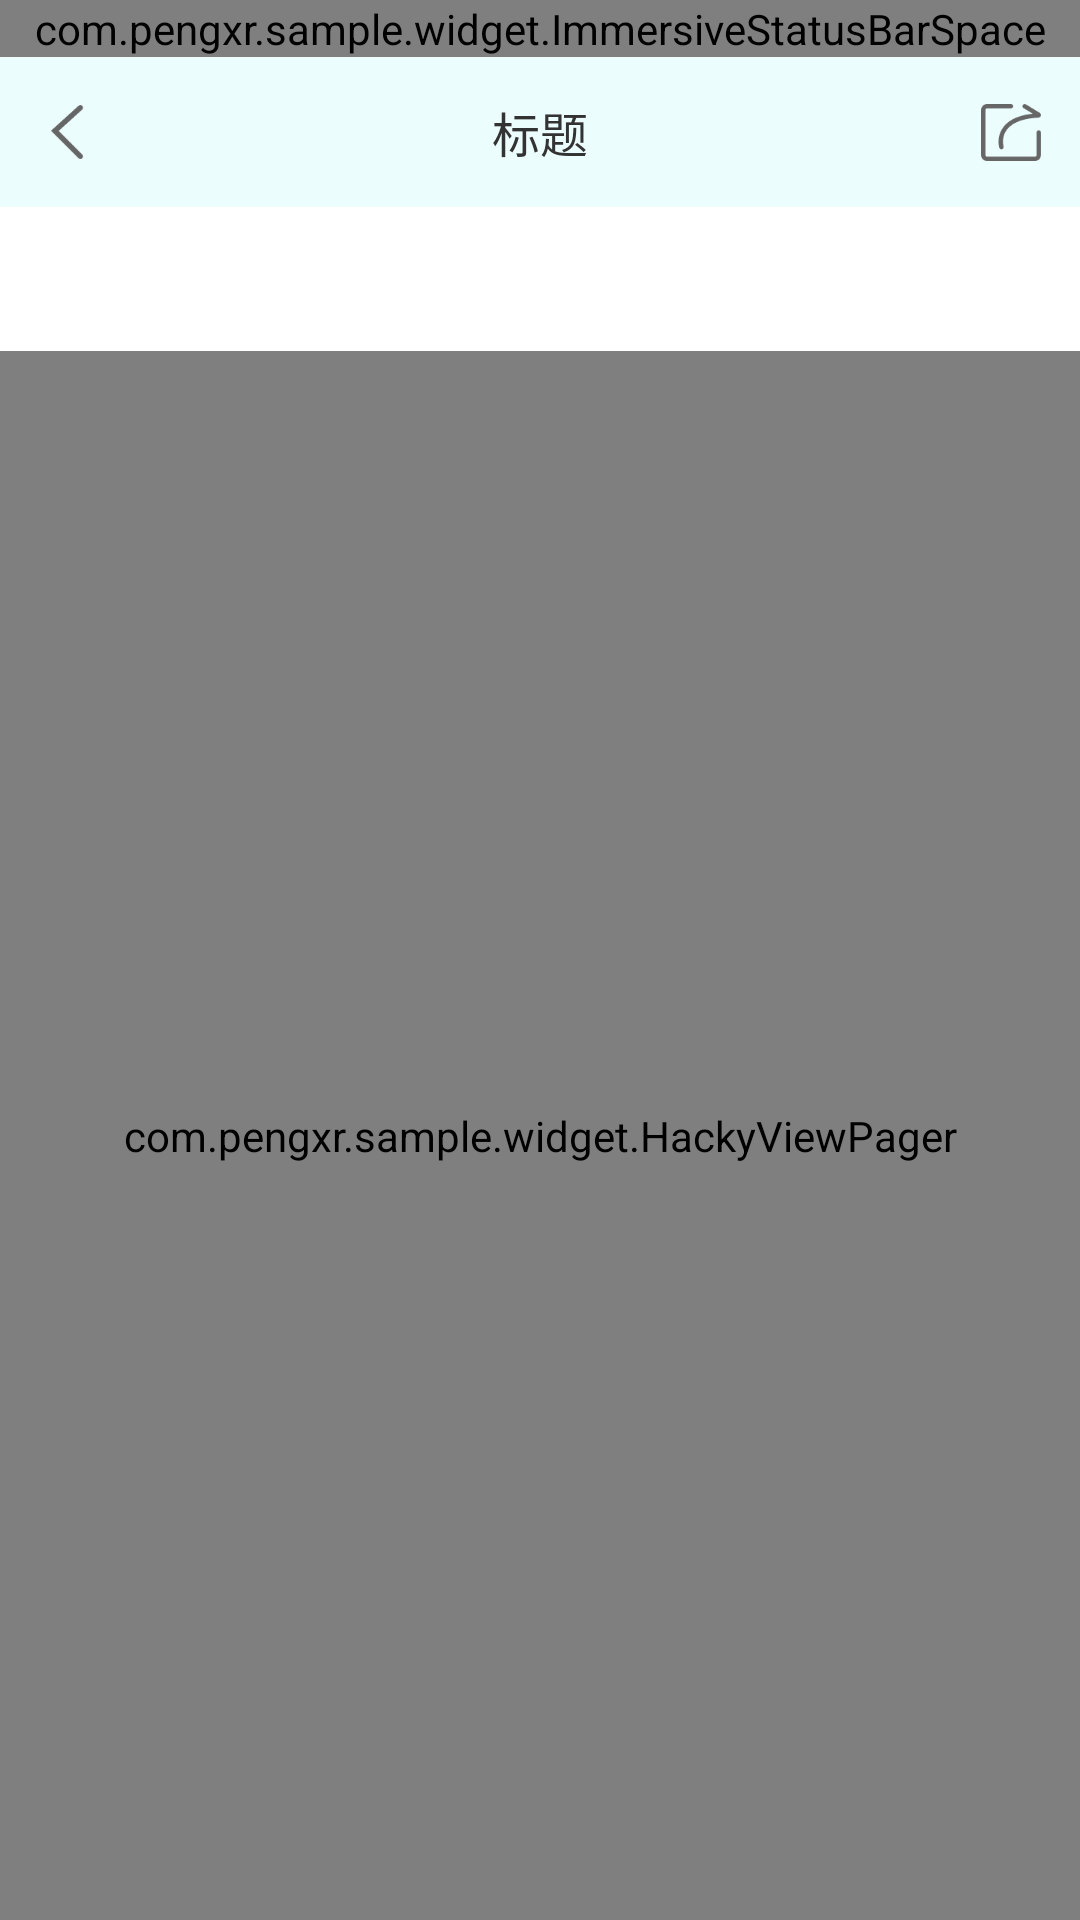

Icons on this 1080*1920 Android screen, each with its box as bbox=(x1, y1, x2, y2):
back: bbox=(51, 105, 83, 159)
share: bbox=(981, 104, 1041, 161)
